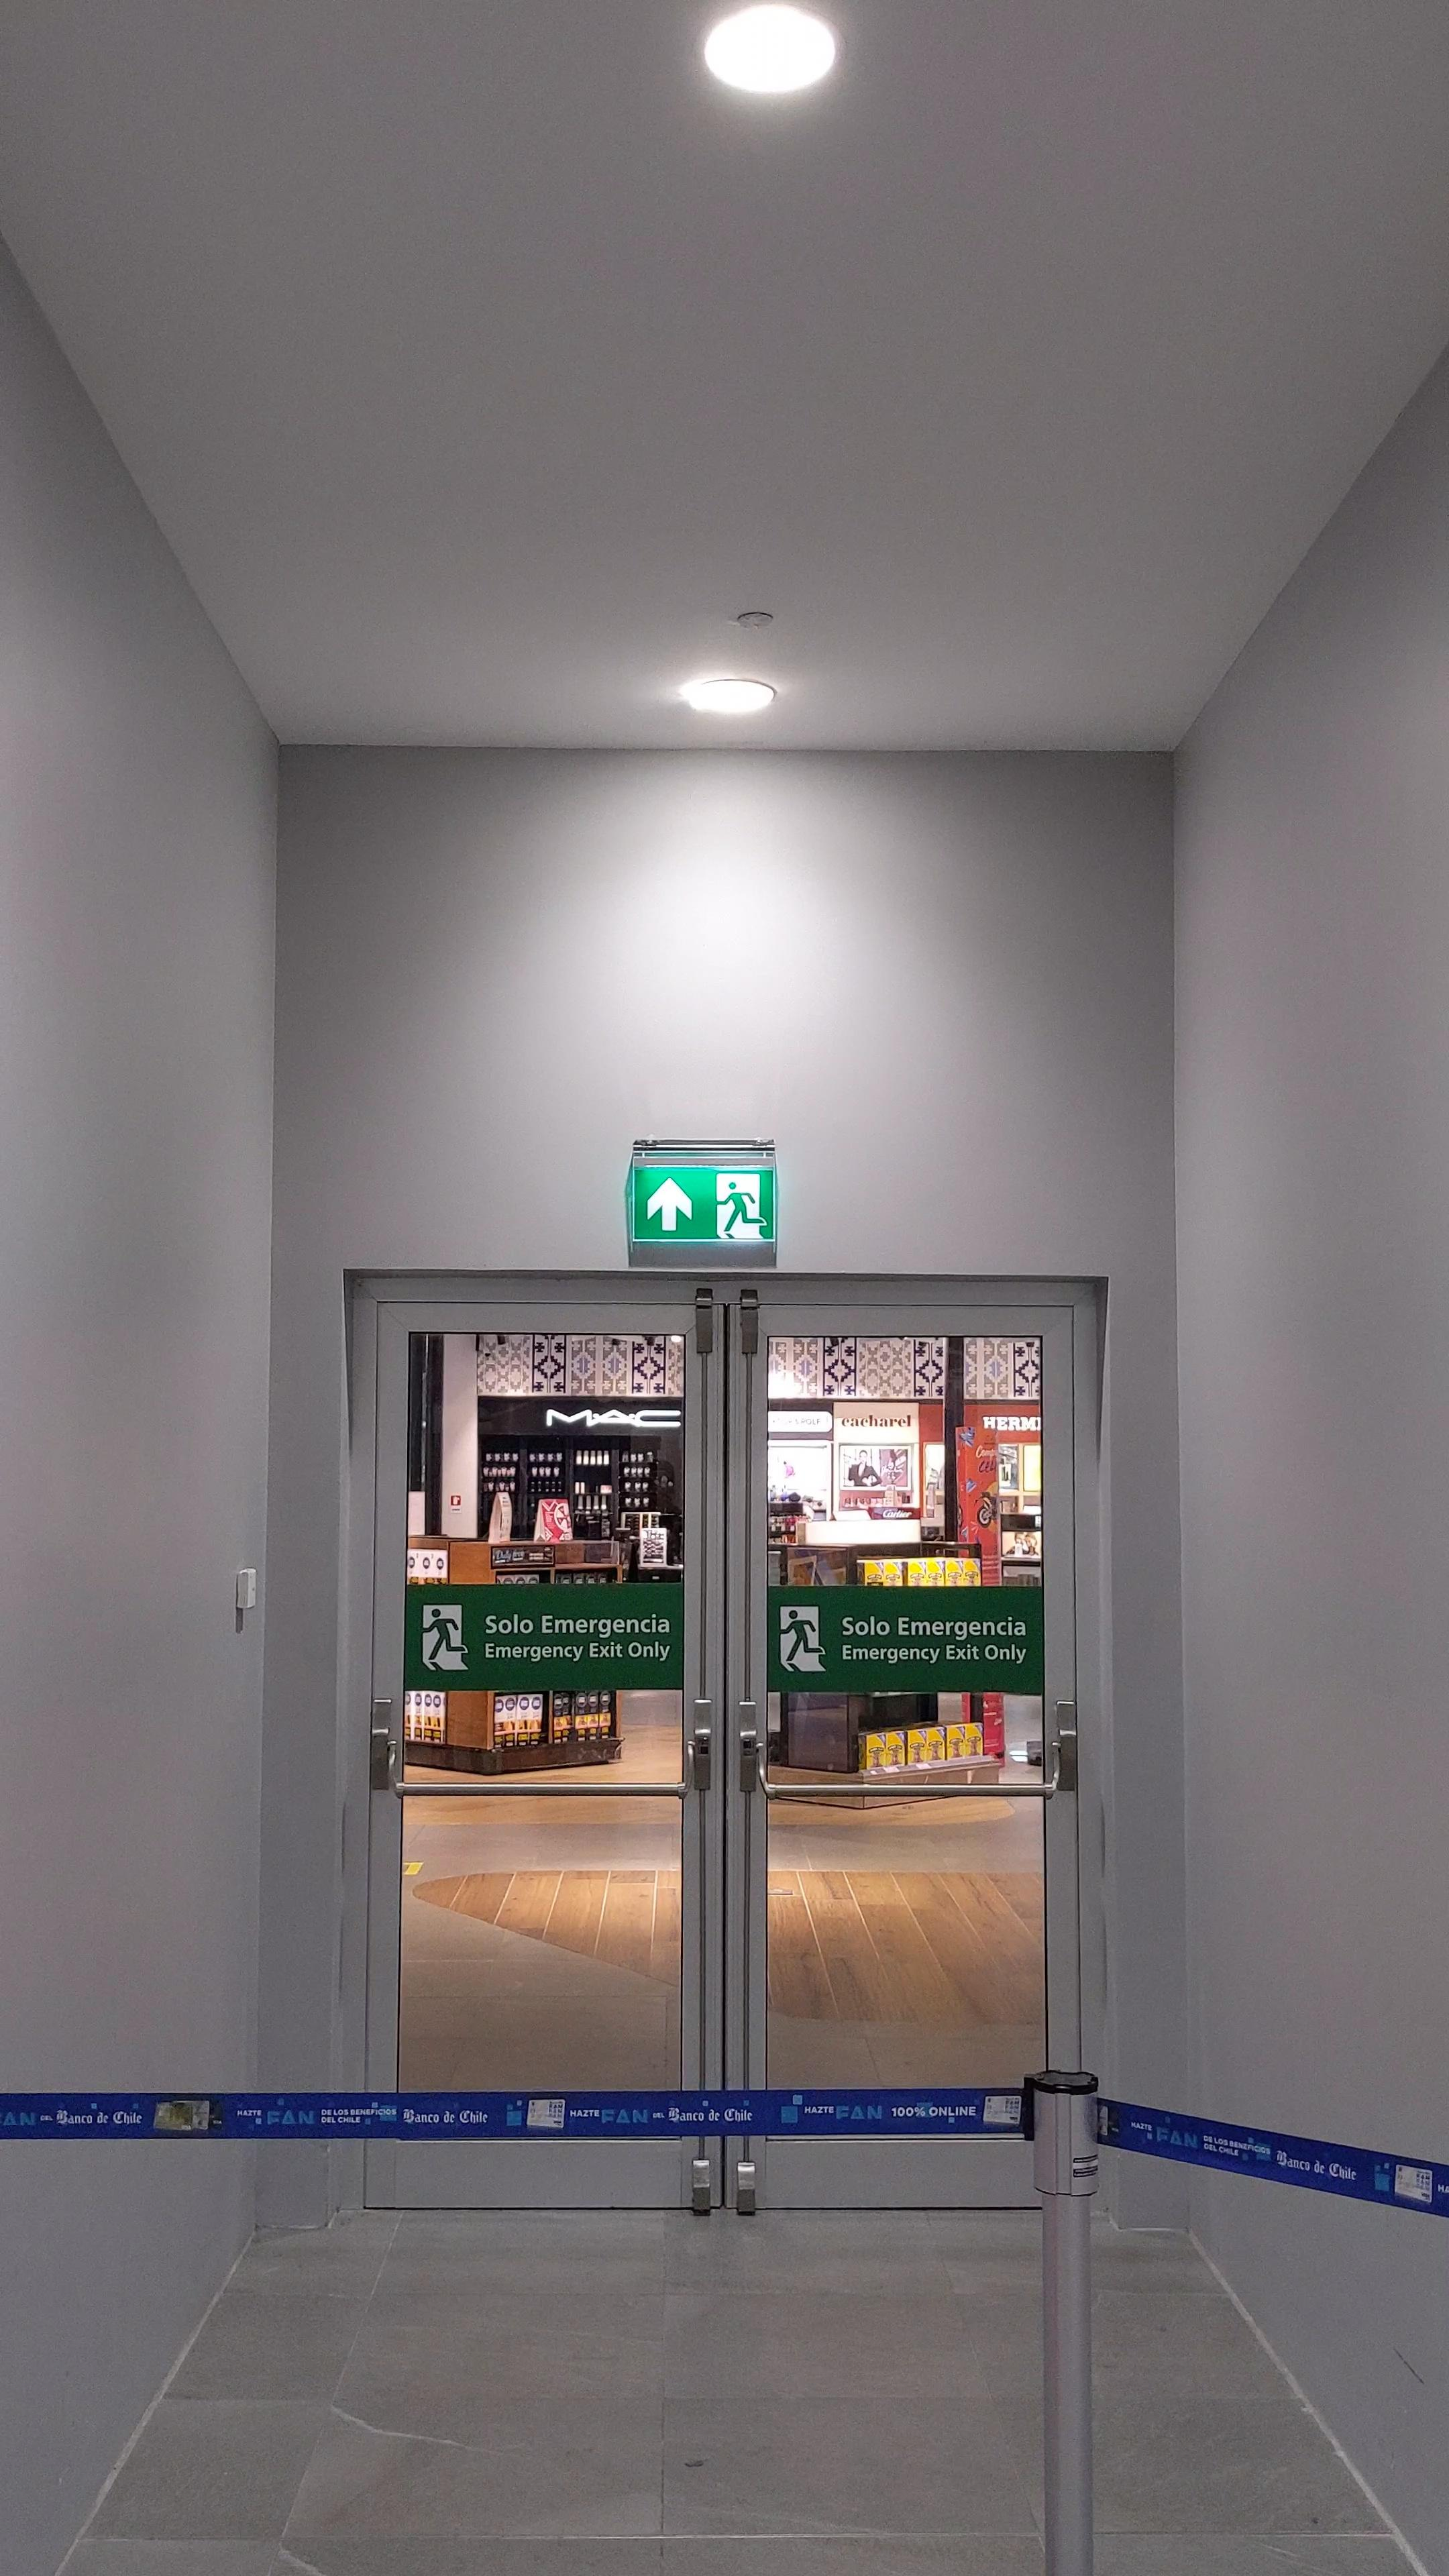emergency exit: (713, 1169, 768, 1242), (778, 1603, 828, 1675), (419, 1601, 467, 1674)
emergency up arrow: (646, 1175, 695, 1233)
